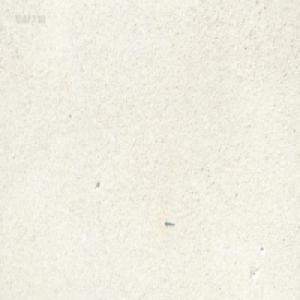Nail: (164, 219, 174, 227)
